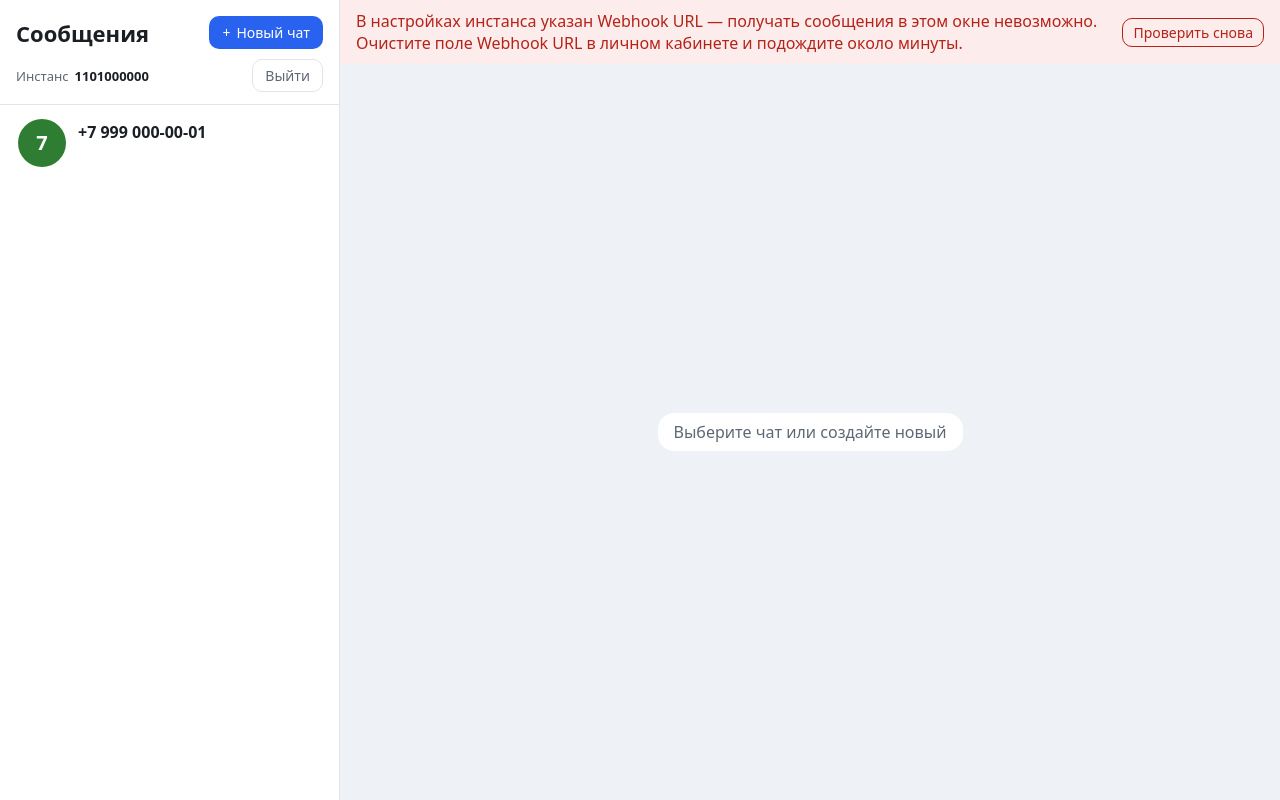
it: Poller: ошибки и остановка (§5.4, §6.1 п. 3) › 400 custom webhook url → П-1, опрос остановлен; «Проверить снова» без П-1 → опрос снова
Expected: the message with test id "banner-p1" is shown, [340, 0, 1279, 64]
Click the button with test id "banner-p1-recheck".
click(1193, 32)  # box [1122, 18, 1264, 46]
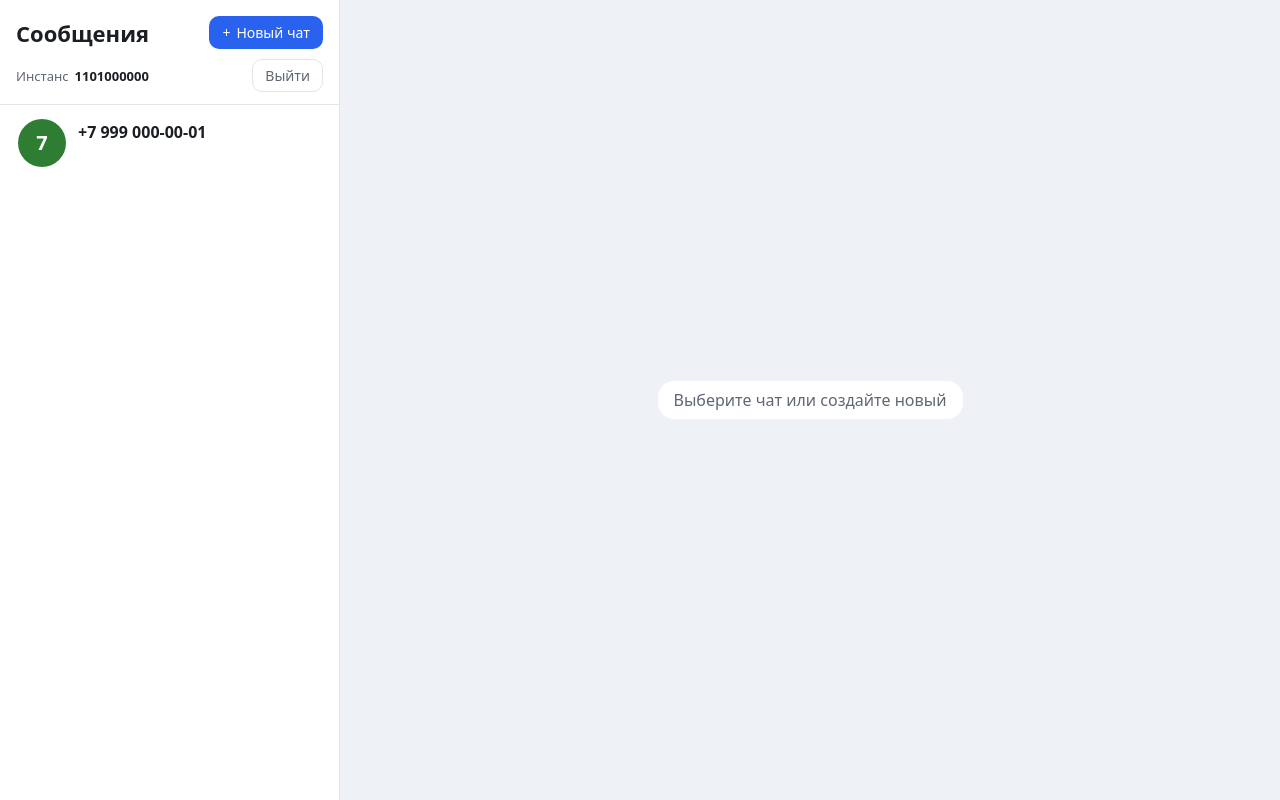
Now the message with test id "banner-p1" is gone
